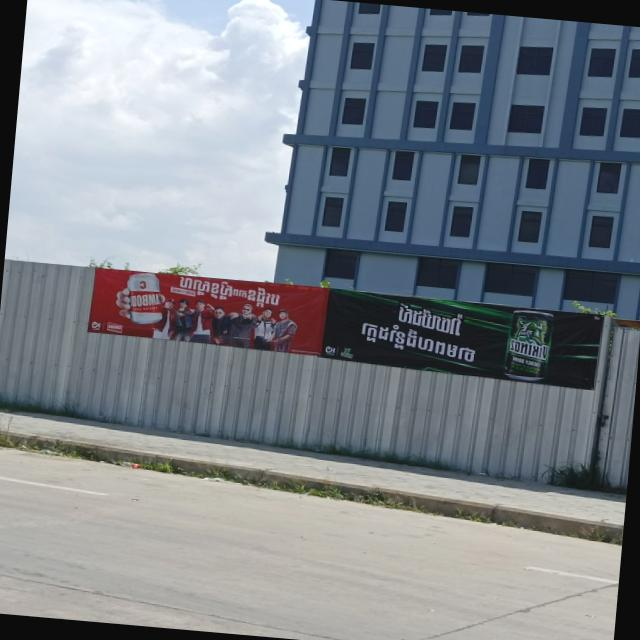Yolov11_80vkh: (351, 313, 482, 368), (173, 272, 289, 311), (394, 299, 465, 338)
